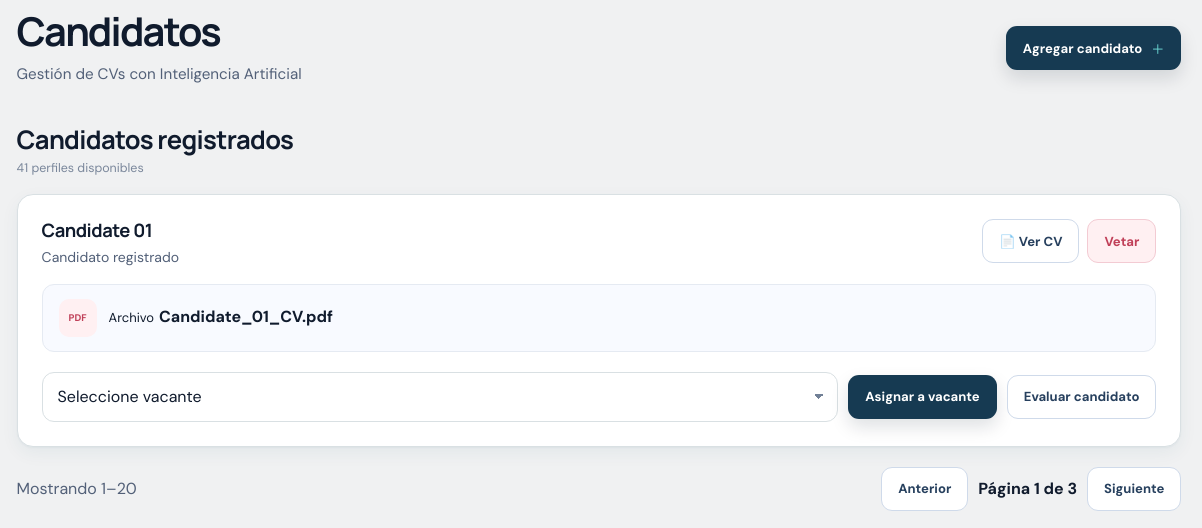
Scenario: Candidates pagination › loads 20-candidate server pages and navigates to the next page
The width and height of the screenshot is (1202, 528).
Expected: the heading "Candidate 01" is shown, [42,218,152,244]
Expected: the text "41 perfiles disponibles" is shown, [17,160,144,176]
Click the button "Siguiente" at (1134, 488), box [1087,466,1181,510]
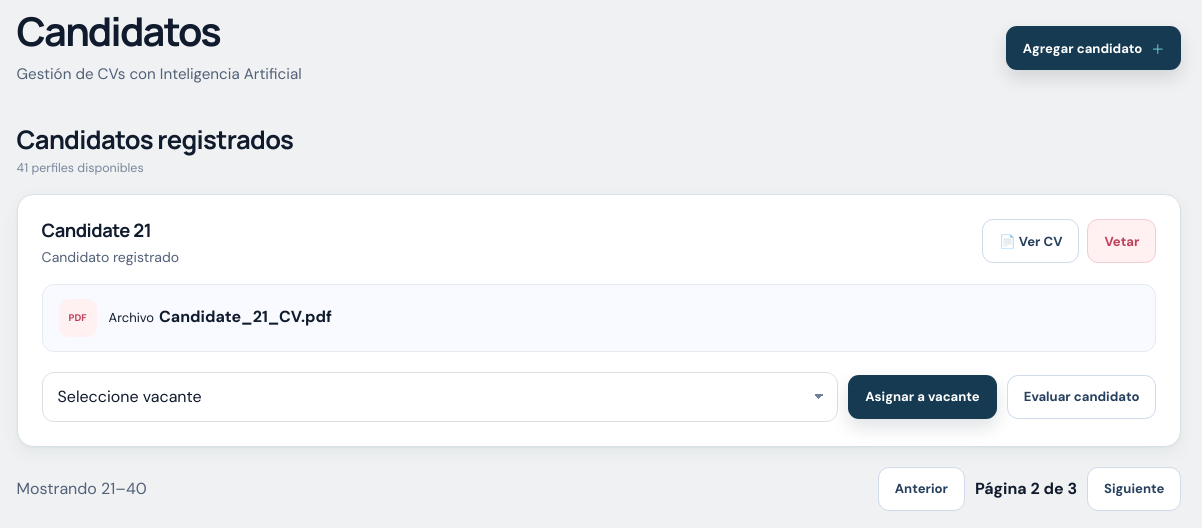
Now the heading "Candidate 21" is shown, box [42,218,151,244]
Now the text "Mostrando 21–40" is shown, box [17,478,147,499]
Now the text "Página 2 de 3" is shown, box [975,478,1077,499]
